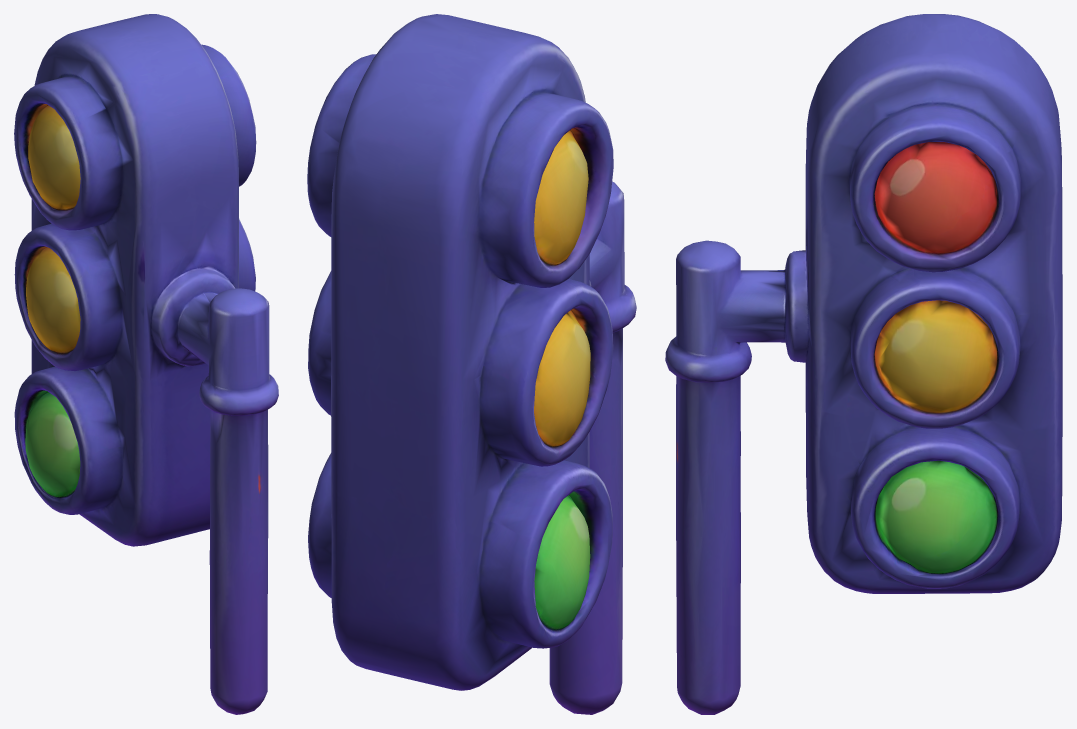
File: traffic_light.glb
The picture shows the model from 3 angles, left to right: view 1: azimuth 30°, elevation 25°; view 2: azimuth 150°, elevation 25°; view 3: azimuth 270°, elevation 25°; orthographic projection. The views are drawn at different scales.
Visible parts, largest first — view 1: tripo_node_2003a258-3c87-4aba-b51d-83c8eac5b713; view 2: tripo_node_2003a258-3c87-4aba-b51d-83c8eac5b713; view 3: tripo_node_2003a258-3c87-4aba-b51d-83c8eac5b713.
Boxes of the visible parts, box(x1,y1,x2,y2) form: tripo_node_2003a258-3c87-4aba-b51d-83c8eac5b713: box(14, 14, 278, 714); tripo_node_2003a258-3c87-4aba-b51d-83c8eac5b713: box(307, 14, 636, 714); tripo_node_2003a258-3c87-4aba-b51d-83c8eac5b713: box(665, 14, 1062, 714).
Size of the model in its own units: 0.0976 by 0.3 by 0.1592.
Materials: 1 (1 with a texture image).
